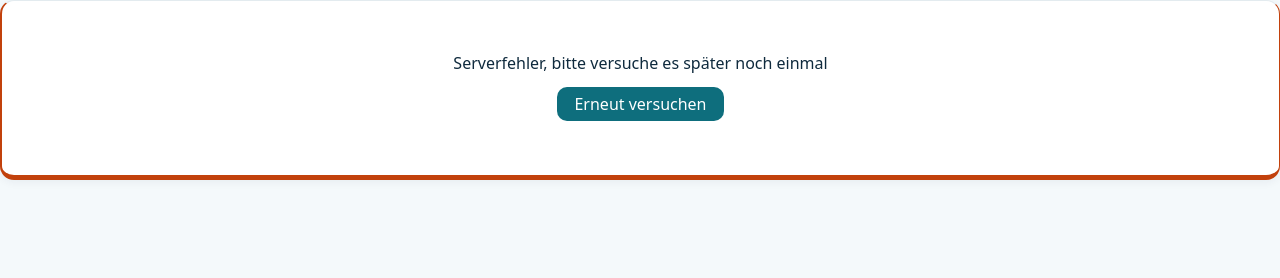
Test: EventPage › shows the server error and recovers on retry
Expected: the message shows "Serverfehler, bitte versuche es später noch einmal", top-left (453, 52), bottom-right (828, 74)
Click the button "Erneut versuchen": point(640, 104) top-left (558, 87), bottom-right (724, 121)
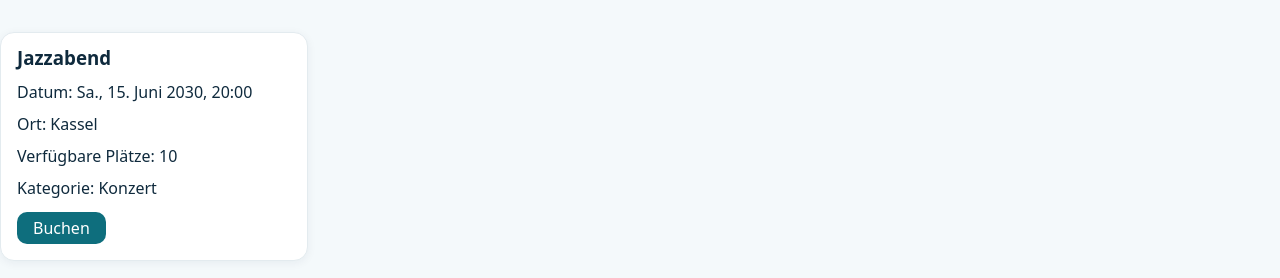
Now the heading "Jazzabend" is shown, box top-left (17, 45), bottom-right (111, 70)
